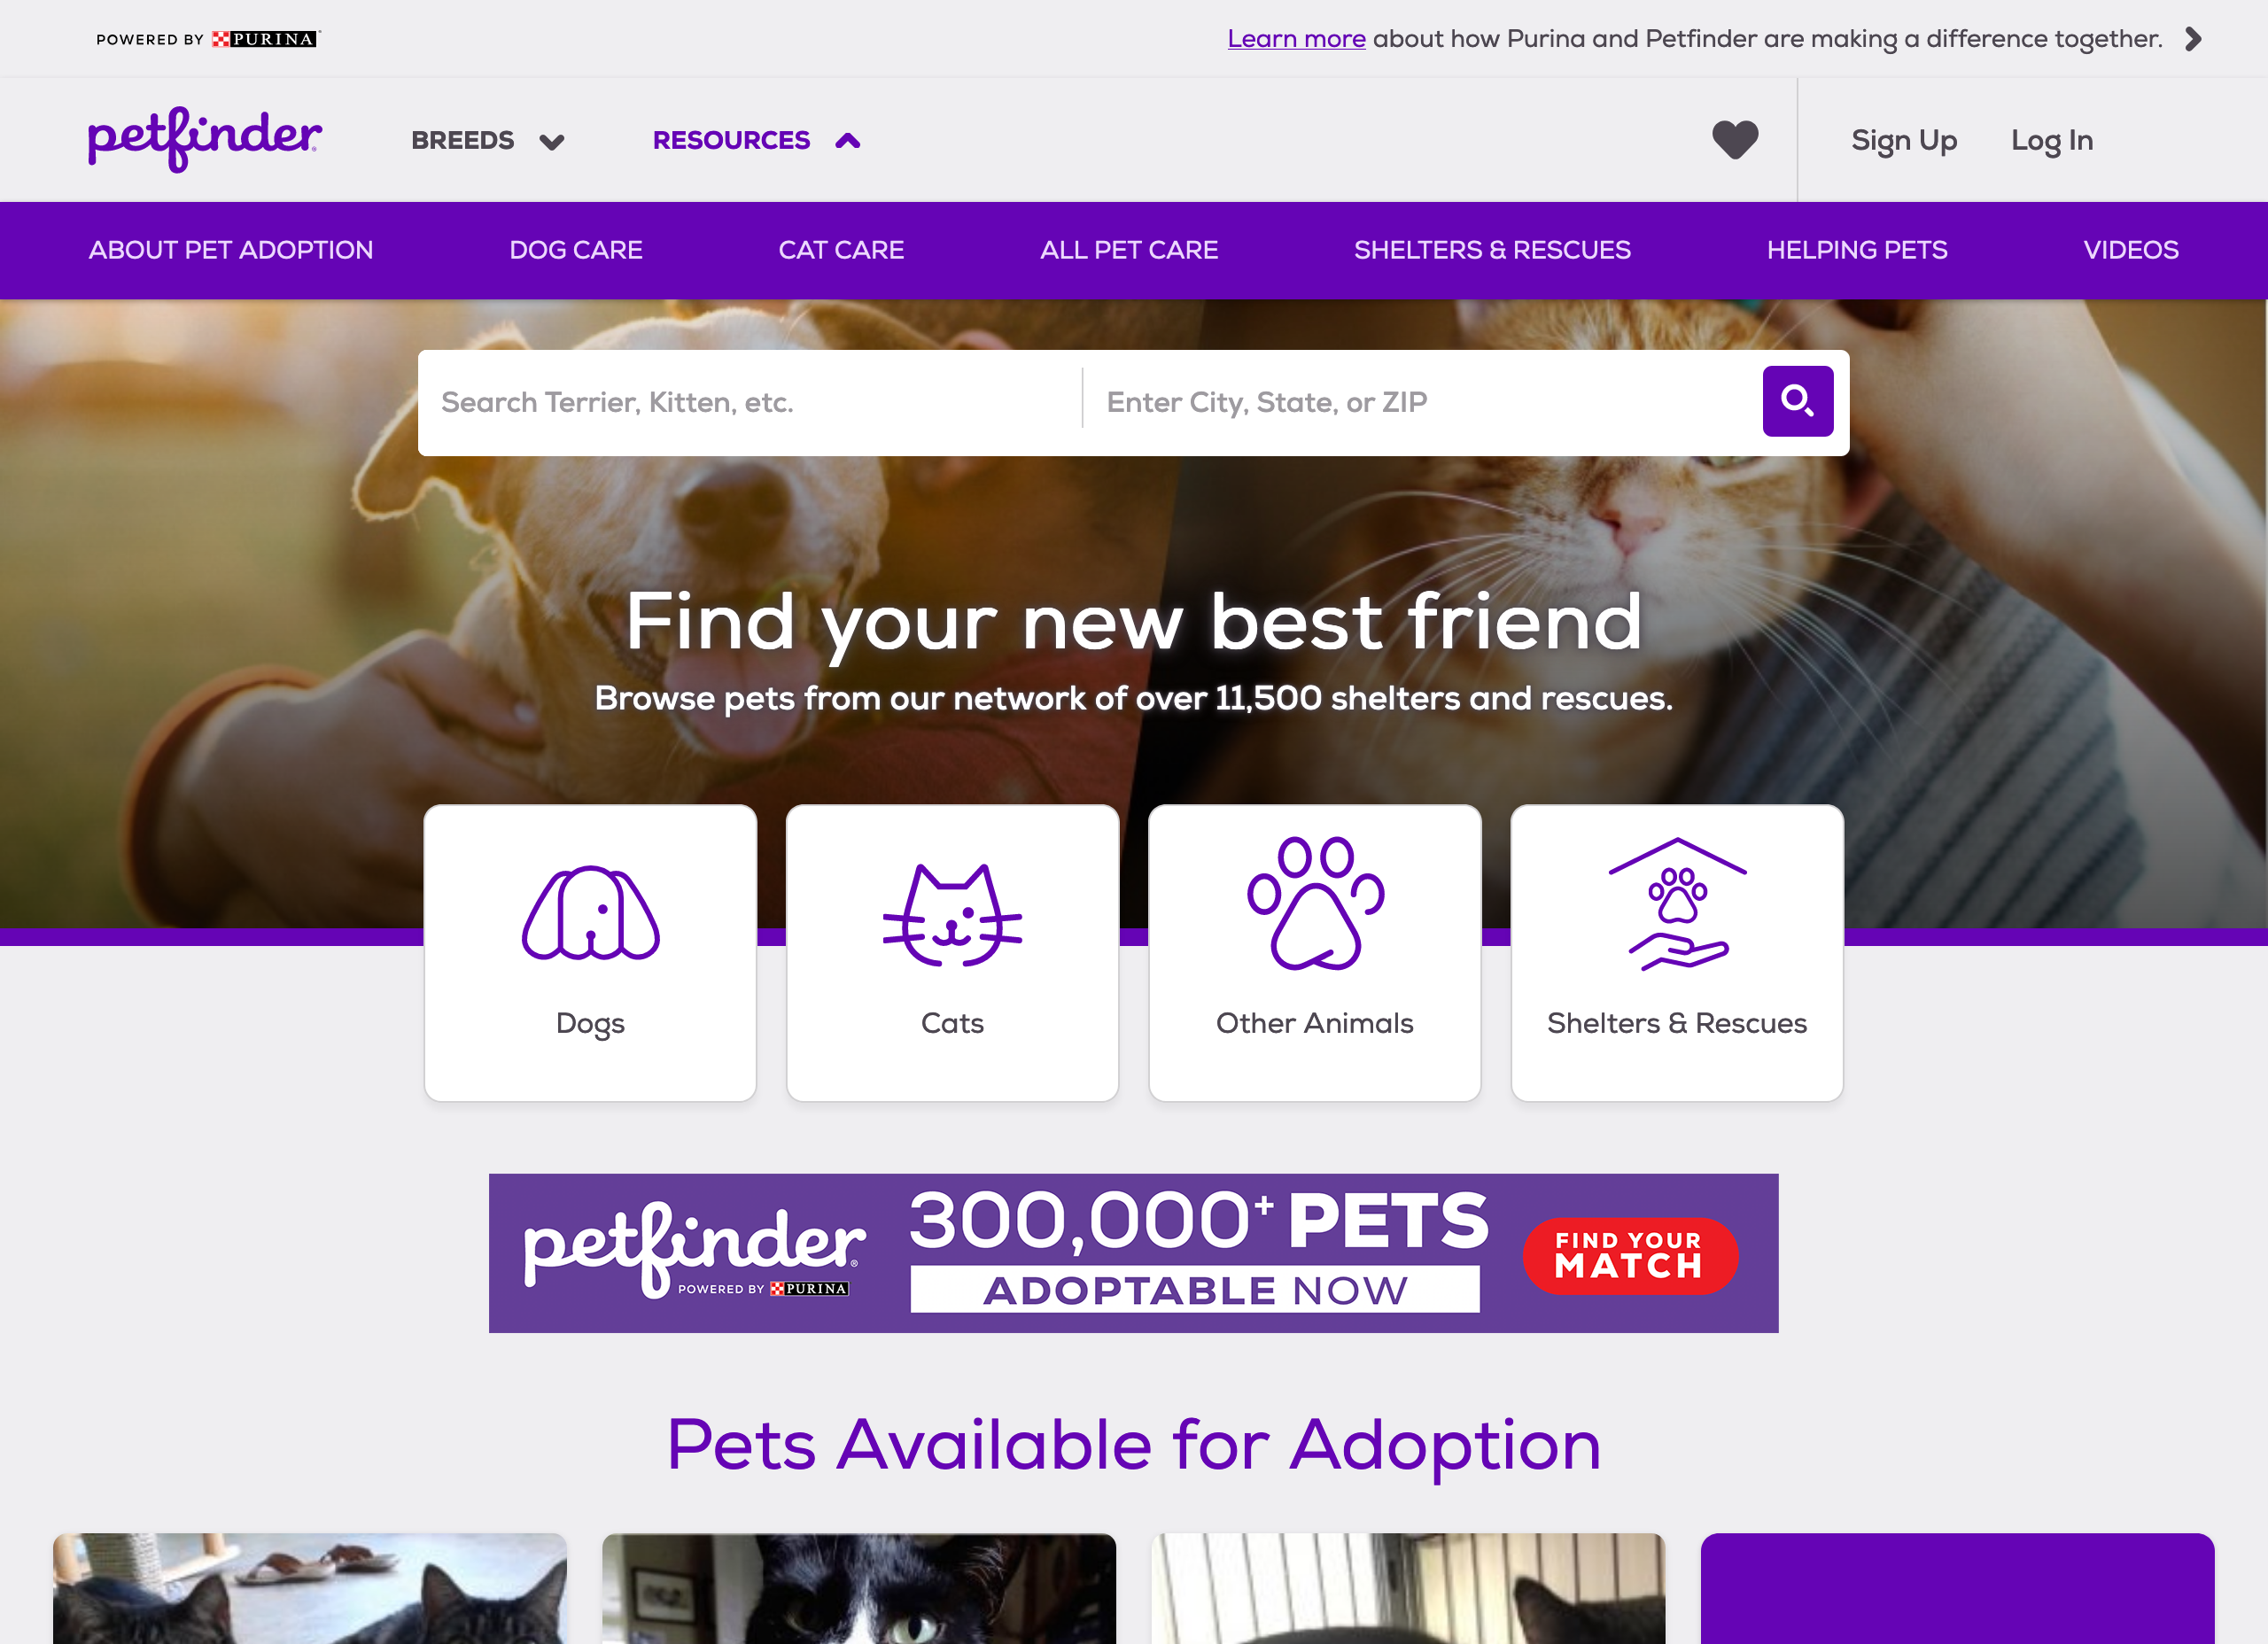Login: (1997, 109, 2115, 169)
